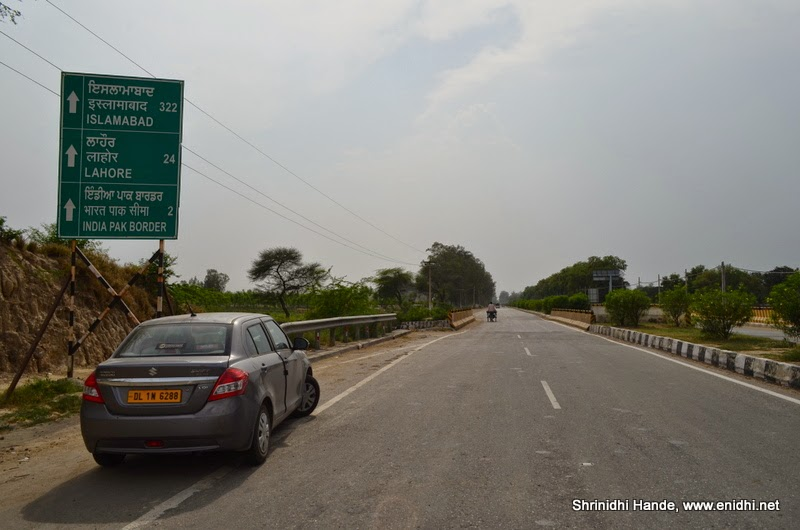car: (76, 303, 330, 487)
